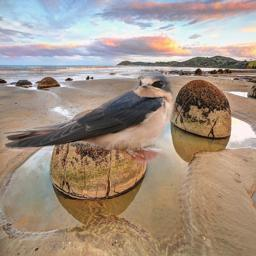Swallow: (1, 68, 176, 163)
